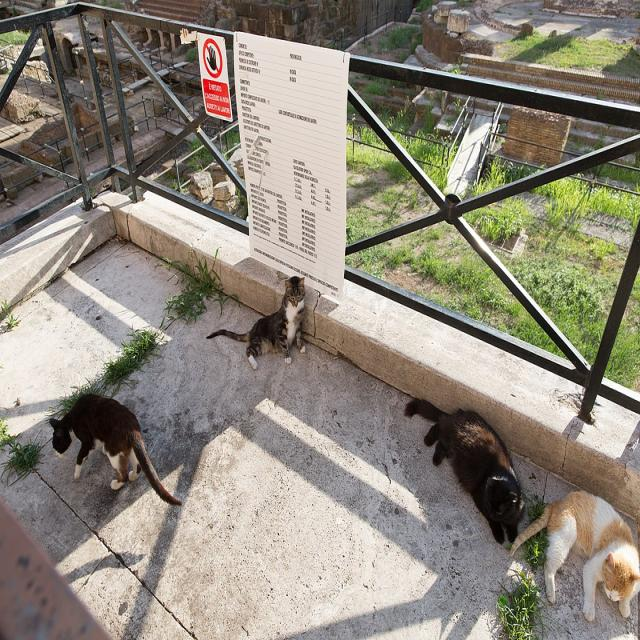cat: (404, 398, 524, 544), (511, 491, 640, 622), (50, 394, 181, 506), (208, 278, 306, 369)
